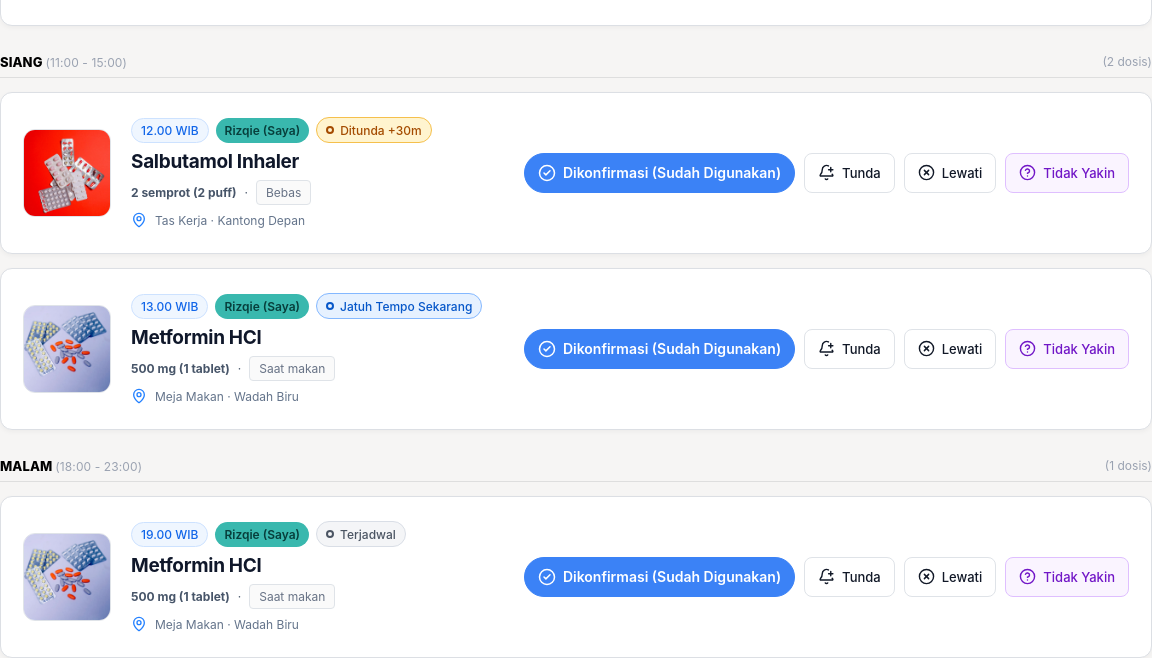
it: TodayPage › menampilkan safety copy dalam popup dan mengembalikan fokus saat batal
(page scrolled)
Click the 2nd button "Tidak Yakin" at (1067, 349), box [1005,329,1129,369]
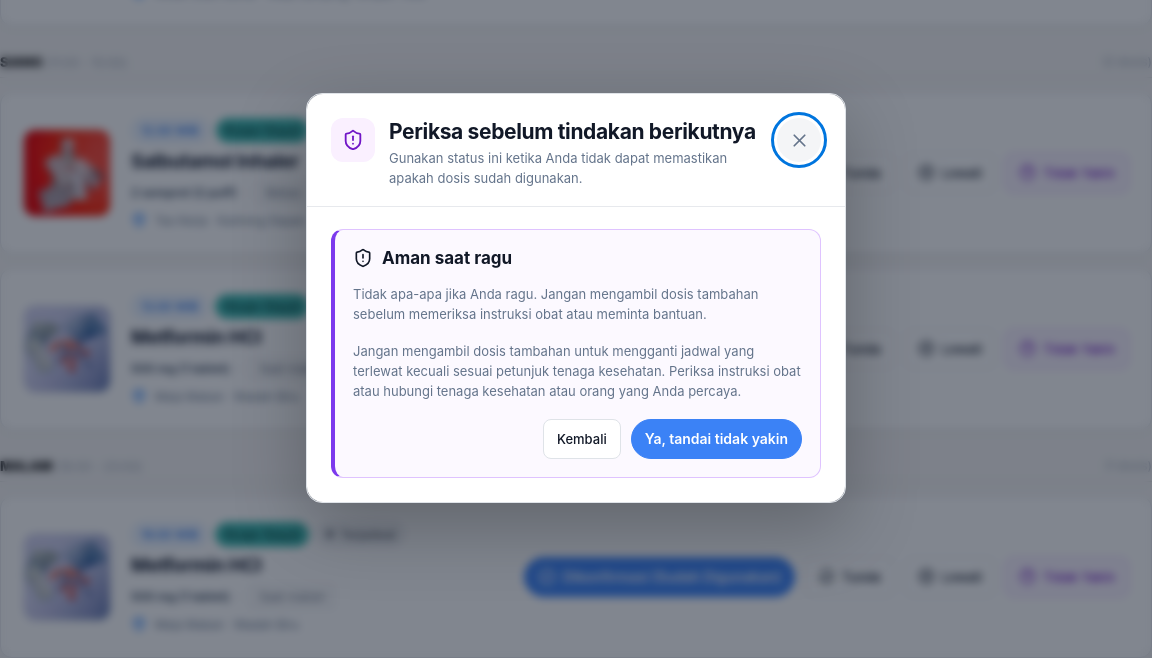
expect the text "mengganti jadwal yang terlewat" is shown: met, box [353,342,801,399]
Click the button "Kembali" at (582, 439), box [543,419,621,459]
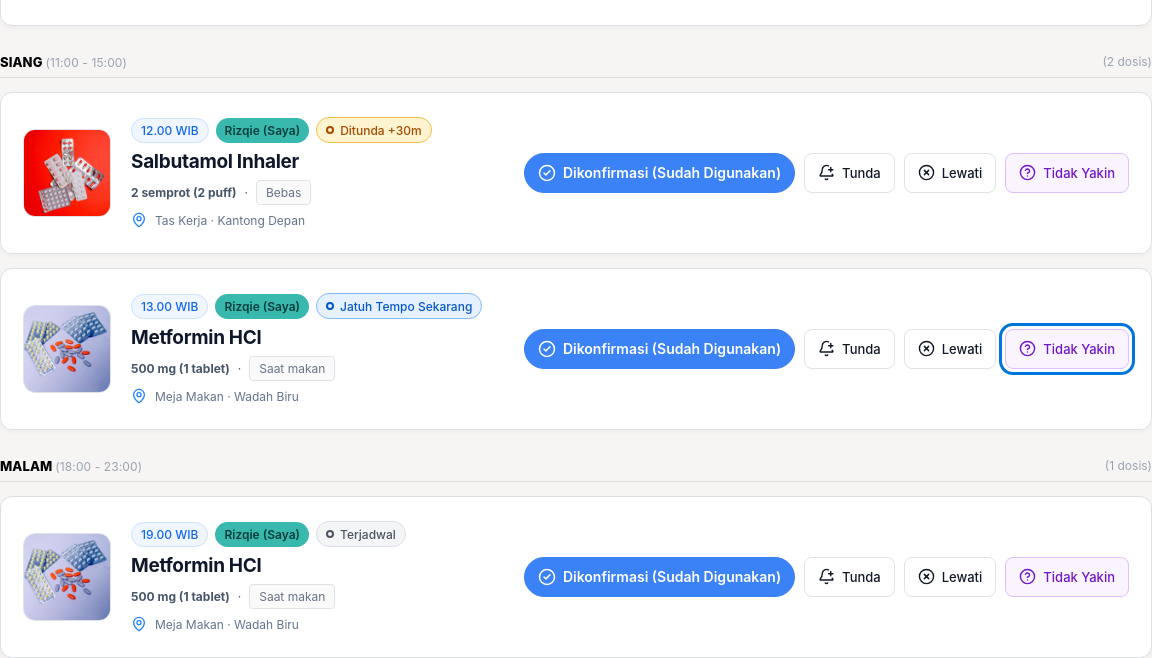
expect the heading "Periksa sebelum tindakan berikutnya" is gone: met
